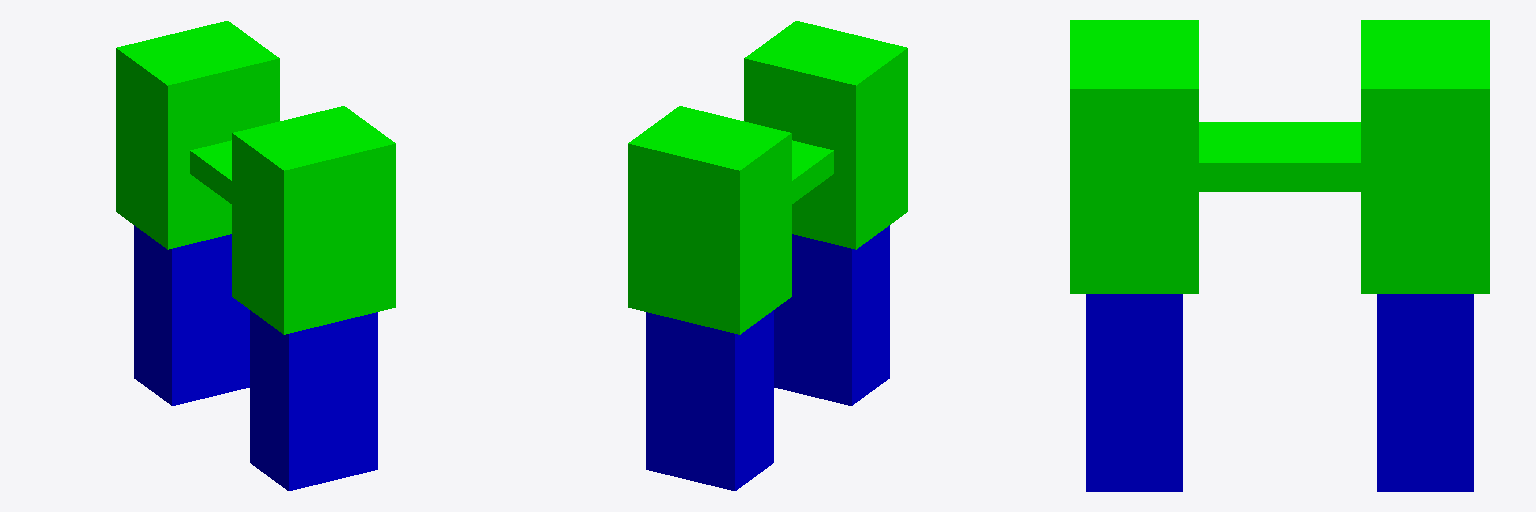
URDF robot description (robot):
<robot name = "robot">
    <link name="root">
        <inertial>
            <origin xyz="0.0 0.0 1.5" rpy="0 0 0"/>
            <mass value="1" />
            <inertia ixx="100" ixy="0" ixz="0" iyy="100" iyz="0" izz="100" />
        </inertial>
        <visual>
            <origin xyz="0.0 0.0 1.5" rpy="0 0 0"/>
            <geometry>
                <box size="0 0 0.0001" />
            </geometry>
            <material name="Green">
                <color rgba="0 1.0 0.0 1.0"/>
            </material>
        </visual>
        <collision>
            <origin xyz="0.0 0.0 1.5" rpy="0 0 0"/>
            <geometry>
                <box size="0 0 0.0001" />
            </geometry>
        </collision>
    </link>
    <joint name="root_000" type="revolute">
       <parent link="root"/>
       <child  link="000"/>
       <origin rpy="0 0 0" xyz="0.0 0.0 1.5" />
     <axis xyz="1 0 0"/>
       <limit effort="0.0" lower="-3.14159" upper="3.14159" velocity="0.0"/>
    </joint>
    <link name="000">
        <inertial>
            <origin xyz="0.0 0.0 -0.05" rpy="0 0 0"/>
            <mass value="1" />
            <inertia ixx="100" ixy="0" ixz="0" iyy="100" iyz="0" izz="100" />
        </inertial>
        <visual>
            <origin xyz="0.0 0.0 -0.05" rpy="0 0 0"/>
            <geometry>
                <box size="0.3 0.5 0.1" />
            </geometry>
            <material name="Green">
                <color rgba="0 1.0 0.0 1.0"/>
            </material>
        </visual>
        <collision>
            <origin xyz="0.0 0.0 -0.05" rpy="0 0 0"/>
            <geometry>
                <box size="0.3 0.5 0.1" />
            </geometry>
        </collision>
    </link>
    <joint name="000_000-100" type="revolute">
       <parent link="000"/>
       <child  link="000-100"/>
       <origin rpy="0 0 0" xyz="0.0 0.25 -0.05" />
     <axis xyz="0 1 0"/>
       <limit effort="0.0" lower="-3.14159" upper="3.14159" velocity="0.0"/>
    </joint>
    <link name="000-100">
        <inertial>
            <origin xyz="0.0 0.2 -0.0" rpy="0 0 0"/>
            <mass value="1" />
            <inertia ixx="100" ixy="0" ixz="0" iyy="100" iyz="0" izz="100" />
        </inertial>
        <visual>
            <origin xyz="0.0 0.2 -0.0" rpy="0 0 0"/>
            <geometry>
                <box size="0.5 0.4 0.7" />
            </geometry>
            <material name="Green">
                <color rgba="0 1.0 0.0 1.0"/>
            </material>
        </visual>
        <collision>
            <origin xyz="0.0 0.2 -0.0" rpy="0 0 0"/>
            <geometry>
                <box size="0.5 0.4 0.7" />
            </geometry>
        </collision>
    </link>
    <joint name="000-100_000-100-200" type="revolute">
       <parent link="000-100"/>
       <child  link="000-100-200"/>
       <origin rpy="0 0 0" xyz="0.0 0.2 -0.35" />
     <axis xyz="0 0 1"/>
       <limit effort="0.0" lower="-3.14159" upper="3.14159" velocity="0.0"/>
    </joint>
    <link name="000-100-200">
        <inertial>
            <origin xyz="0.0 0.0 -0.35" rpy="0 0 0"/>
            <mass value="1" />
            <inertia ixx="100" ixy="0" ixz="0" iyy="100" iyz="0" izz="100" />
        </inertial>
        <visual>
            <origin xyz="0.0 0.0 -0.35" rpy="0 0 0"/>
            <geometry>
                <box size="0.4 0.3 0.7" />
            </geometry>
            <material name="Blue">
                <color rgba="0 0.0 1.0 1.0"/>
            </material>
        </visual>
        <collision>
            <origin xyz="0.0 0.0 -0.35" rpy="0 0 0"/>
            <geometry>
                <box size="0.4 0.3 0.7" />
            </geometry>
        </collision>
    </link>
    <joint name="000_000-101" type="revolute">
       <parent link="000"/>
       <child  link="000-101"/>
       <origin rpy="0 0 0" xyz="0.0 -0.25 -0.05" />
     <axis xyz="0 1 0"/>
       <limit effort="0.0" lower="-3.14159" upper="3.14159" velocity="0.0"/>
    </joint>
    <link name="000-101">
        <inertial>
            <origin xyz="0.0 -0.2 -0.0" rpy="0 0 0"/>
            <mass value="1" />
            <inertia ixx="100" ixy="0" ixz="0" iyy="100" iyz="0" izz="100" />
        </inertial>
        <visual>
            <origin xyz="0.0 -0.2 -0.0" rpy="0 0 0"/>
            <geometry>
                <box size="0.5 0.4 0.7" />
            </geometry>
            <material name="Green">
                <color rgba="0 1.0 0.0 1.0"/>
            </material>
        </visual>
        <collision>
            <origin xyz="0.0 -0.2 -0.0" rpy="0 0 0"/>
            <geometry>
                <box size="0.5 0.4 0.7" />
            </geometry>
        </collision>
    </link>
    <joint name="000-101_000-101-200" type="revolute">
       <parent link="000-101"/>
       <child  link="000-101-200"/>
       <origin rpy="0 0 0" xyz="0.0 -0.2 -0.35" />
     <axis xyz="0 0 1"/>
       <limit effort="0.0" lower="-3.14159" upper="3.14159" velocity="0.0"/>
    </joint>
    <link name="000-101-200">
        <inertial>
            <origin xyz="0.0 -0.0 -0.35" rpy="0 0 0"/>
            <mass value="1" />
            <inertia ixx="100" ixy="0" ixz="0" iyy="100" iyz="0" izz="100" />
        </inertial>
        <visual>
            <origin xyz="0.0 -0.0 -0.35" rpy="0 0 0"/>
            <geometry>
                <box size="0.4 0.3 0.7" />
            </geometry>
            <material name="Blue">
                <color rgba="0 0.0 1.0 1.0"/>
            </material>
        </visual>
        <collision>
            <origin xyz="0.0 -0.0 -0.35" rpy="0 0 0"/>
            <geometry>
                <box size="0.4 0.3 0.7" />
            </geometry>
        </collision>
    </link>
</robot>

--- What the picture shows (computed from the rendered views, not written in the file) ---
3 views of the same robot in one strip: view 1: azimuth 30°, elevation 25°; view 2: azimuth 150°, elevation 25°; view 3: azimuth 270°, elevation 25° (orthographic).
Robot: robot — 6 links, 5 joints (5 revolute); root link root; default pose: every joint at zero.
Links seen in each view (by area): view 1: [phone redacted] (×2), 000-101, 000-100, 000; view 2: [phone redacted] (×2), 000-100, 000-101, 000; view 3: [phone redacted] (×2), 000-100, 000-101, 000.
Boxes of the visible links, x1,y1,x2,y2 form: [phone redacted] (×2): (134,225,377,490); 000-101: (232,106,395,334); 000-100: (116,21,279,249); 000: (190,140,231,203); [phone redacted] (×2): (646,225,889,490); 000-100: (628,106,791,334); 000-101: (744,21,907,249); 000: (792,140,833,203); [phone redacted] (×2): (1086,294,1473,491); 000-100: (1361,20,1489,293); 000-101: (1070,20,1198,293); 000: (1199,122,1360,191).
Size in the robot's own frame: 0.5 by 1.3 by 1.4 metres.
Geometry: primitives only (box / cylinder / sphere), no mesh files.
